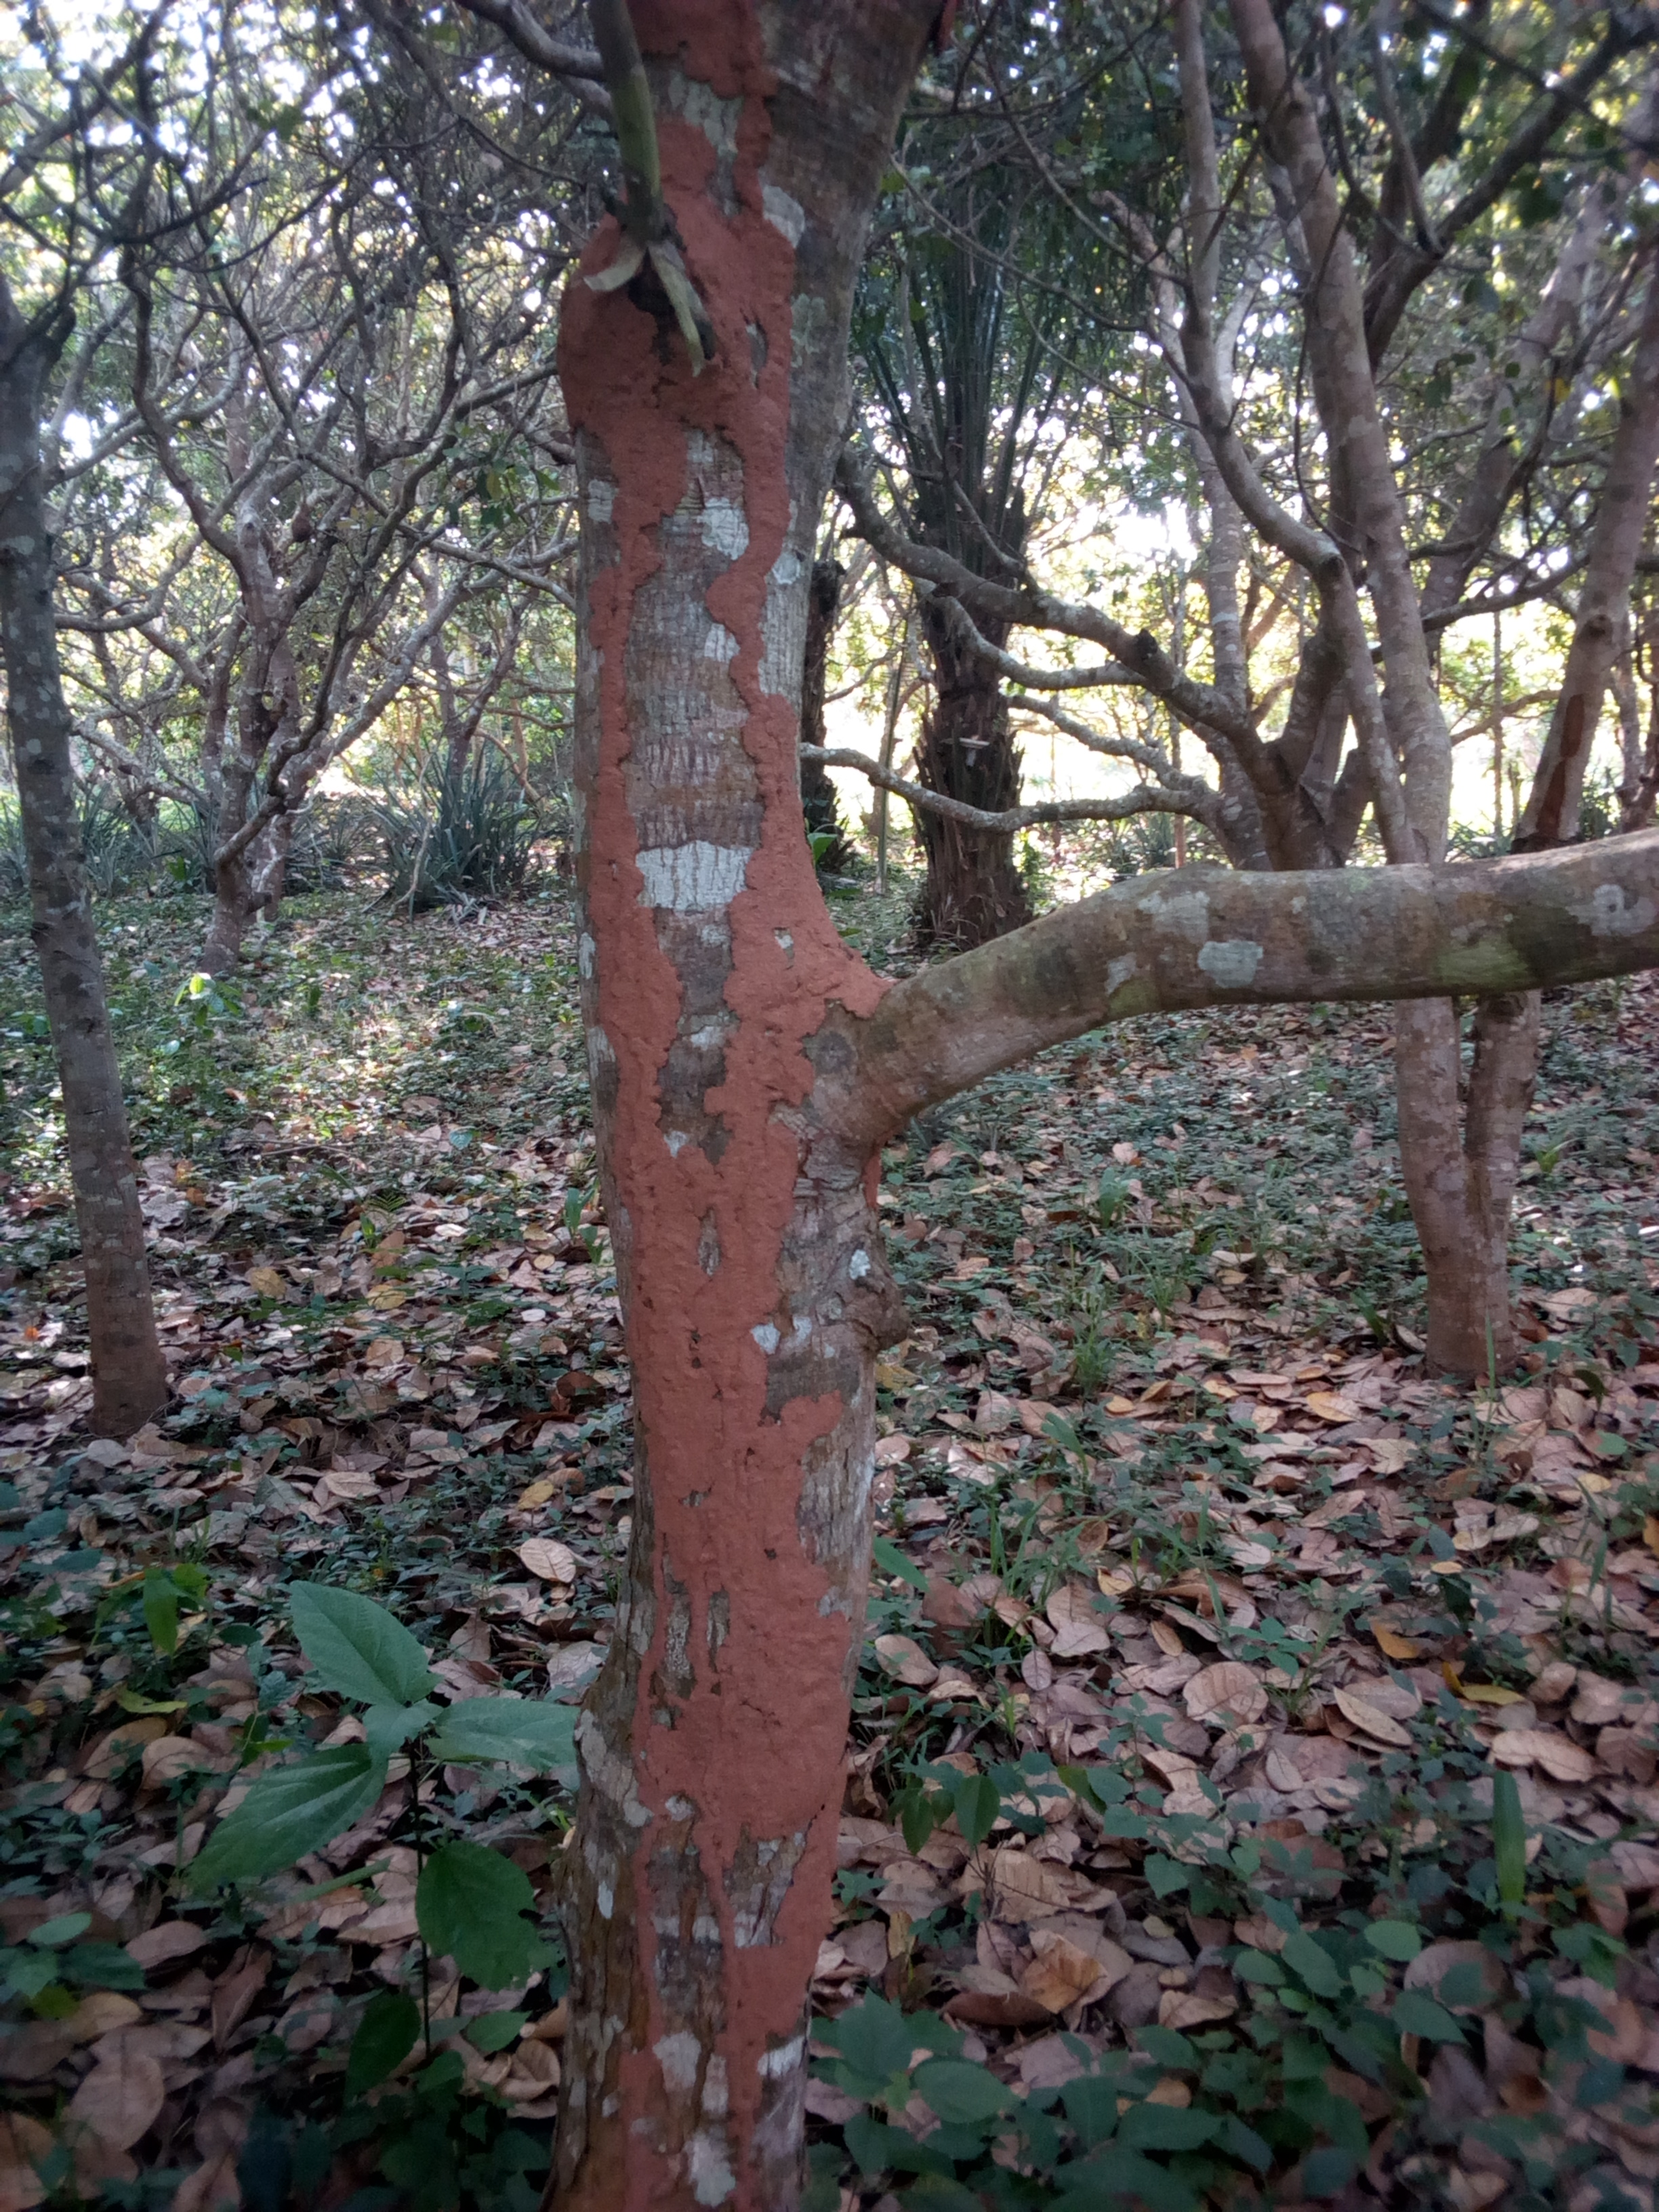Termites: (626, 1012, 847, 2177), (561, 185, 863, 1008)
